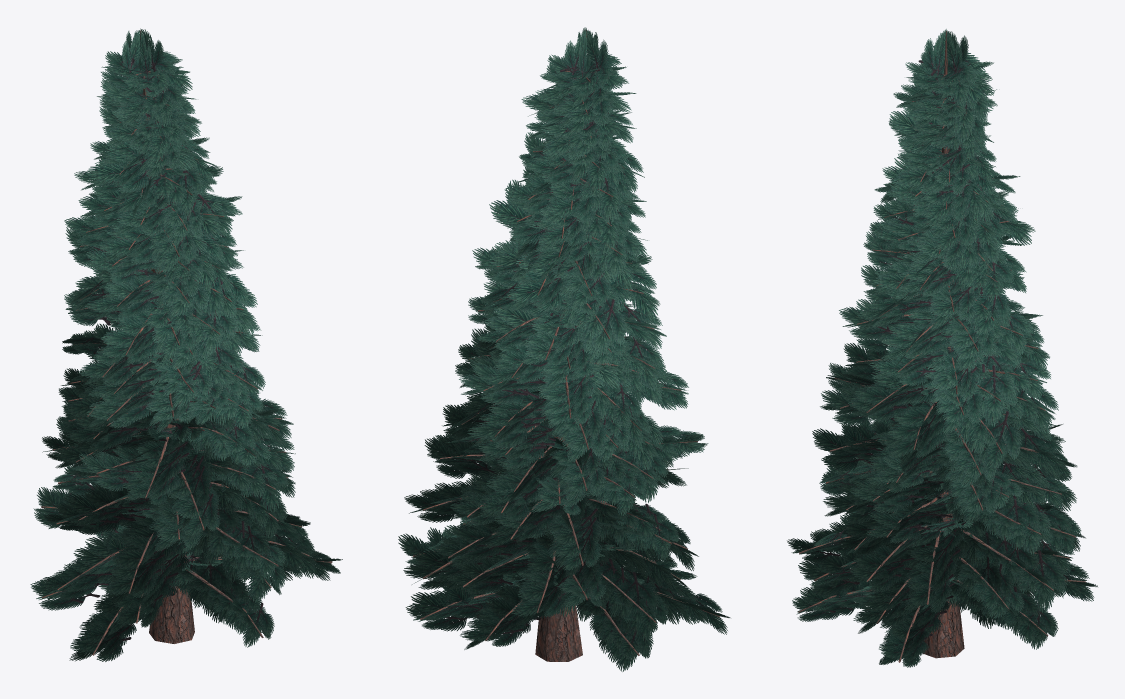
Rendered from nature-green-tall-fir_v3.glb.
The picture shows the model from 3 angles, left to right: view 1: azimuth 30°, elevation 25°; view 2: azimuth 150°, elevation 25°; view 3: azimuth 270°, elevation 25°; orthographic projection. The views are drawn at different scales.
Parts seen in each view (by area): view 1: nature-green-tall-fir; view 2: nature-green-tall-fir; view 3: nature-green-tall-fir.
Part boxes in pixels (x1,y1,x2,y2): nature-green-tall-fir: (30,28,342,661); nature-green-tall-fir: (398,27,730,671); nature-green-tall-fir: (787,29,1097,667).
Size of the model in its own units: 6.68 by 13.05 by 6.43.
2 materials, 2 textured.
